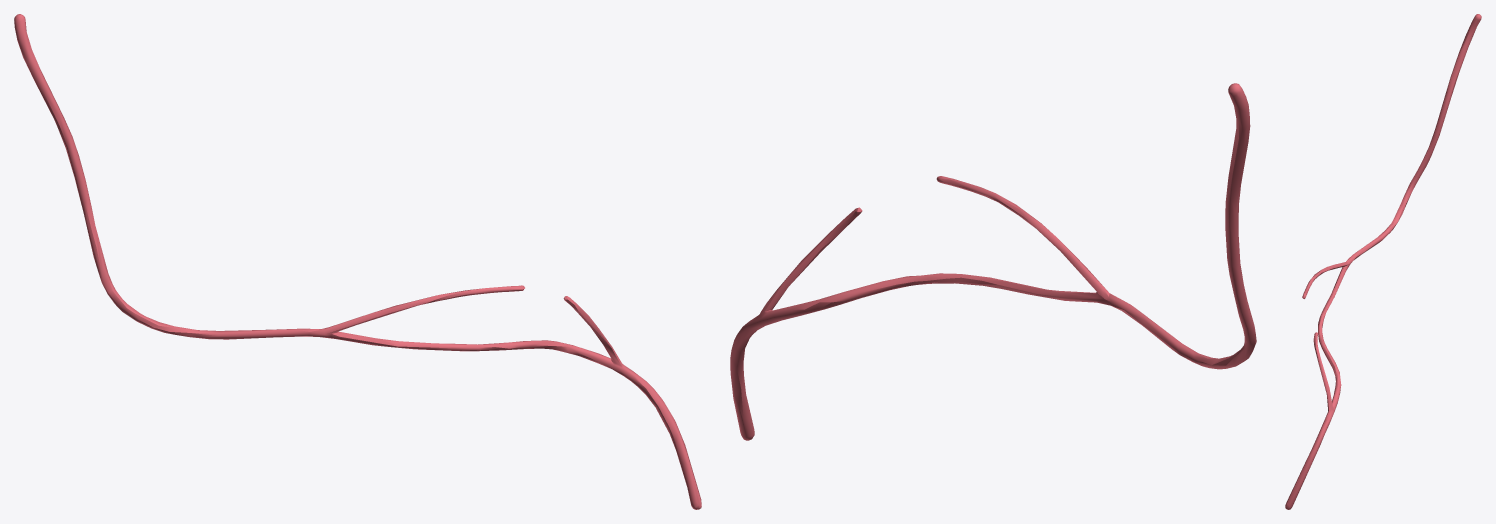
The model's file is fma50908_fj5009.glb.
3 views of the same model, side by side, from view 1: azimuth 30°, elevation 25°; view 2: azimuth 150°, elevation 25°; view 3: azimuth 270°, elevation 25° (orthographic). The views are drawn at different scales.
Parts seen in each view (by area): view 1: FMA50908_FJ5009; view 2: FMA50908_FJ5009; view 3: FMA50908_FJ5009.
Boxes of the visible parts, box(x1,y1,x2,y2) form: FMA50908_FJ5009: box(14, 14, 701, 509); FMA50908_FJ5009: box(730, 83, 1256, 440); FMA50908_FJ5009: box(1285, 14, 1481, 509).
Size of the model in its own units: 0.0424 by 0.0387 by 0.0209.
